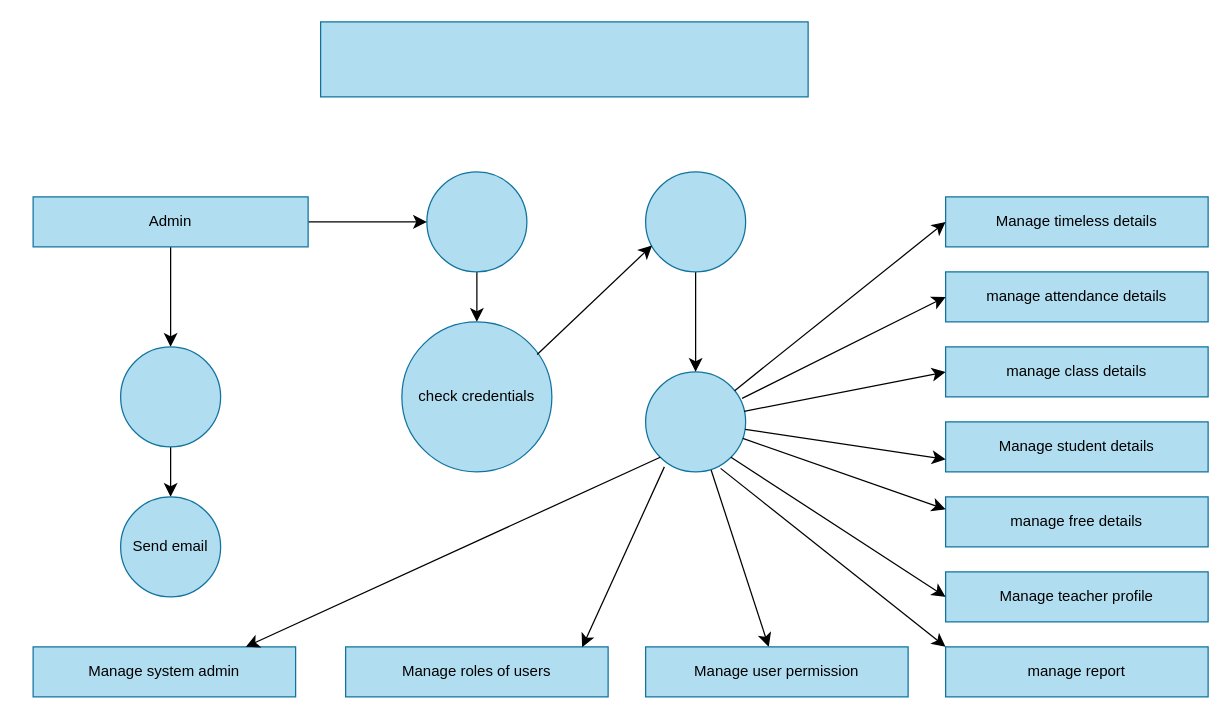
Some shapes in this 1230 by 719 pixel diagram are drawn without their labels. The centre of each missing label's shape, as x and y in pixels:
check roles of access: point (695, 221)
Forgot password: point (170, 396)
login to system: point (476, 221)
manage modules: point (695, 421)
STUDENT INFORMATION SYSTEM: point (563, 59)
